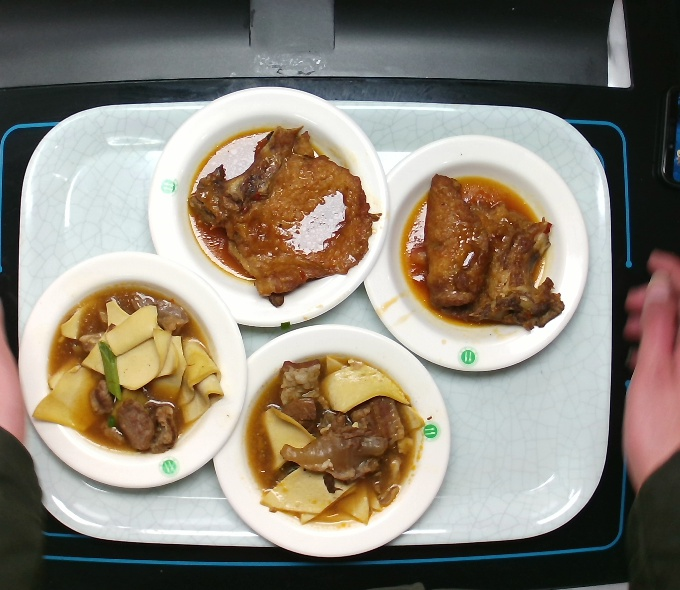wcq-DaPai: (186, 123, 374, 302), (398, 173, 568, 331)
wcq-QianZhangNiuRou: (243, 351, 423, 525), (47, 281, 221, 459)
